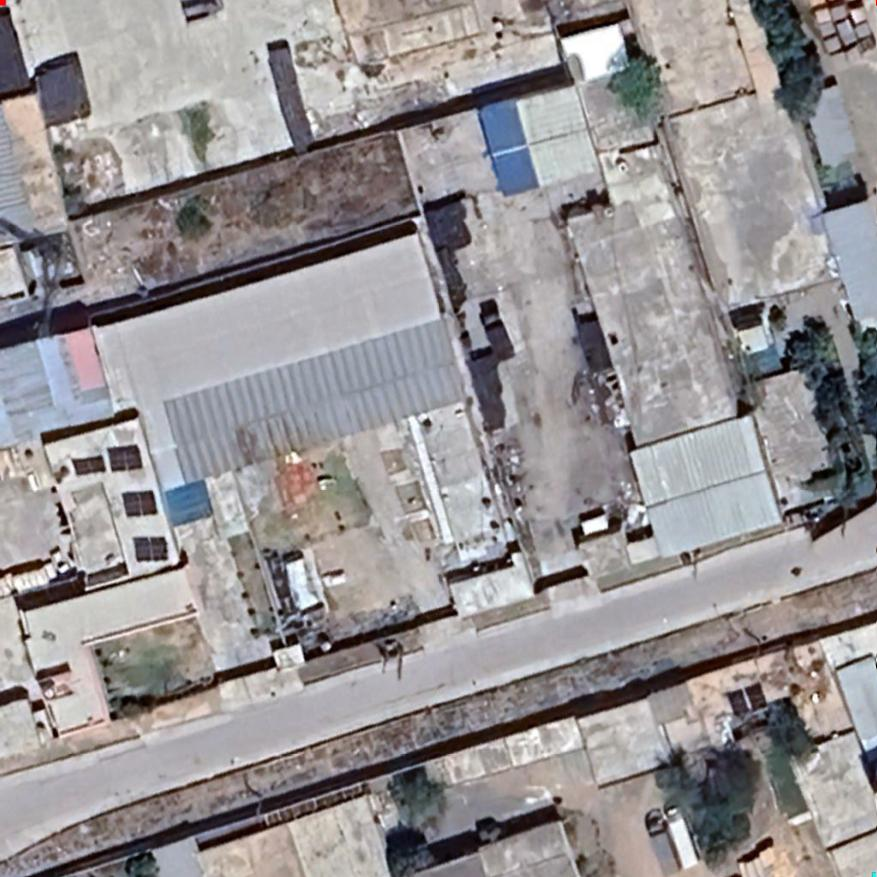Solarpanel: (725, 681, 771, 718), (132, 534, 172, 565), (108, 443, 145, 476), (123, 490, 162, 520), (67, 454, 107, 479)
